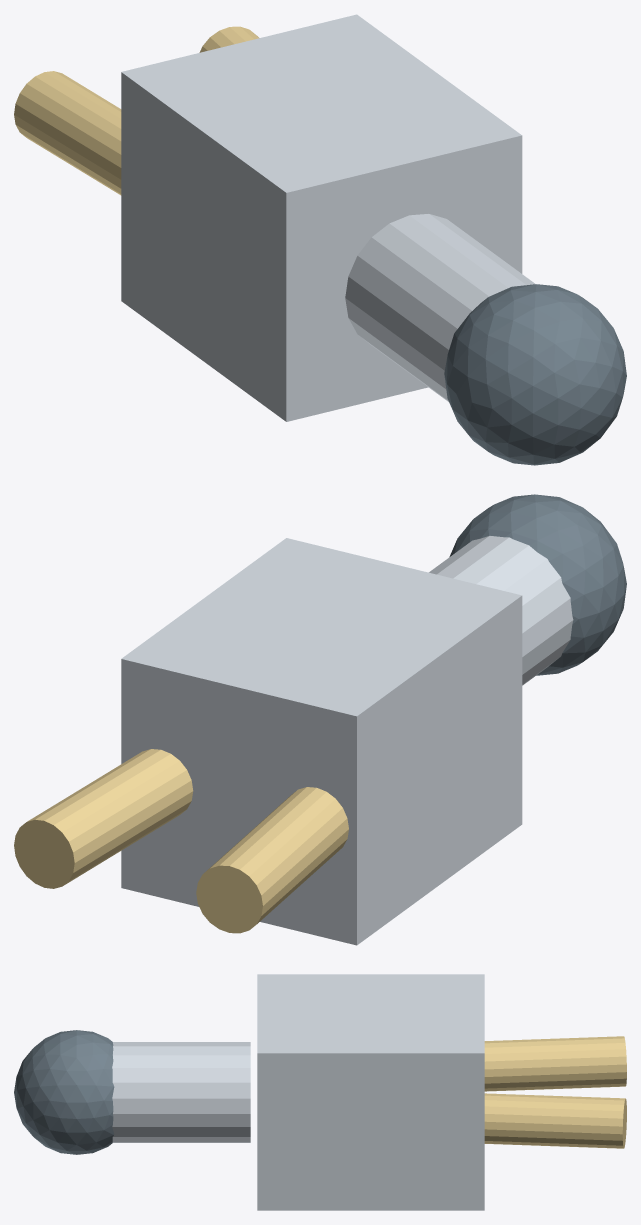
The model's file is servicer_tool_installer.glb.
3 renders of one model, top to bottom at view 1: azimuth 30°, elevation 25°; view 2: azimuth 150°, elevation 25°; view 3: azimuth 270°, elevation 25°, orthographic. The views are drawn at different scales.
Visible parts, largest first — view 1: installation coupler, installer swivel, installer mounting spindle, installer alignment pin 0, installer alignment pin 1; view 2: installation coupler, installer alignment pin 1, installer swivel, installer alignment pin 0, installer mounting spindle; view 3: installation coupler, installer mounting spindle, installer swivel, installer alignment pin 0, installer alignment pin 1.
Boxes of the visible parts, box(x1,y1,x2,y2) form: installation coupler: box(121, 14, 522, 421); installer swivel: box(444, 284, 626, 465); installer mounting spindle: box(345, 214, 535, 401); installer alignment pin 0: box(14, 71, 121, 195); installer alignment pin 1: box(199, 26, 259, 52); installation coupler: box(121, 538, 522, 945); installer alignment pin 1: box(14, 749, 193, 888); installer swivel: box(449, 494, 626, 675); installer alignment pin 0: box(196, 787, 348, 933); installer mounting spindle: box(429, 536, 573, 685); installation coupler: box(257, 974, 484, 1210); installer mounting spindle: box(112, 1042, 250, 1142); installer swivel: box(14, 1030, 114, 1154); installer alignment pin 0: box(484, 1036, 626, 1091); installer alignment pin 1: box(484, 1093, 626, 1148).
Size of the model in its own units: 0.1479 by 0.13 by 0.4586.
